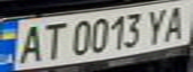0: (66, 17, 93, 56), (90, 15, 112, 53)
1: (109, 11, 130, 51)
3: (124, 10, 148, 48)
A: (15, 21, 48, 64), (160, 2, 193, 42)
T: (36, 20, 66, 62)
Y: (142, 4, 175, 45)
